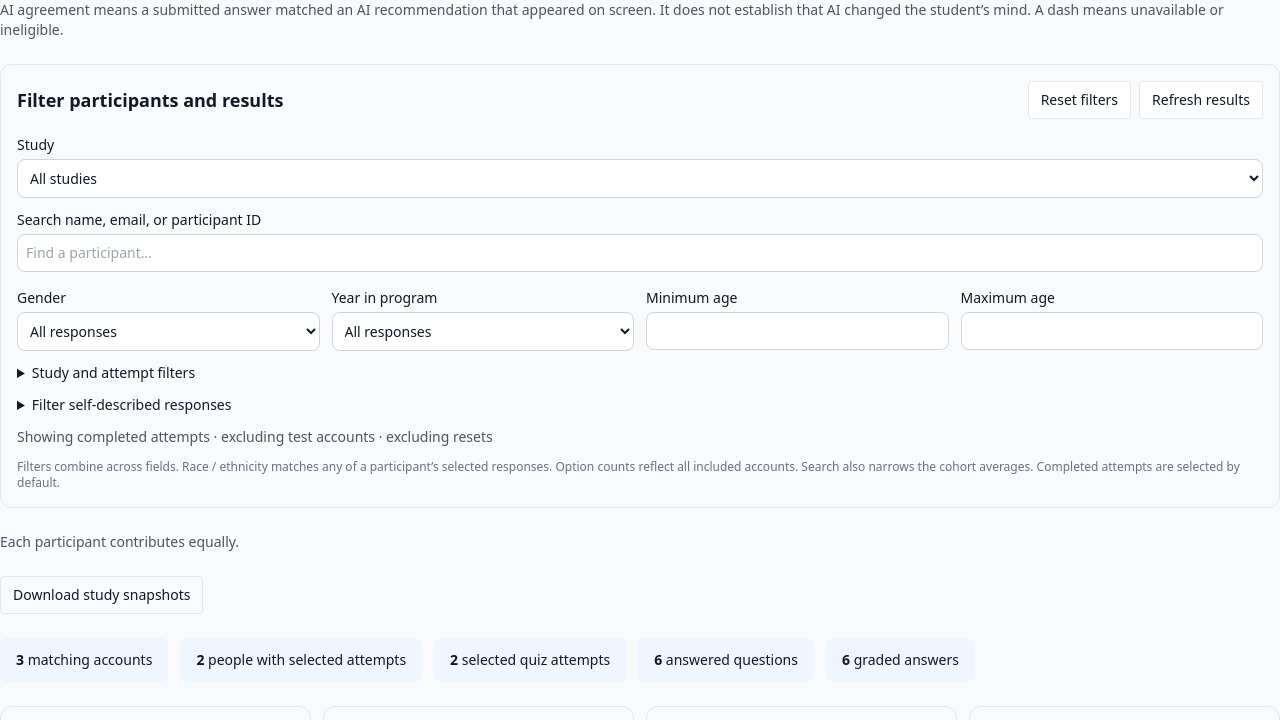
shows a server validation error and allows resetting filters
This screenshot has width=1280, height=720.
Type "90" into the number field labelled "Minimum age" at (797, 331), box [646,312,948,350]
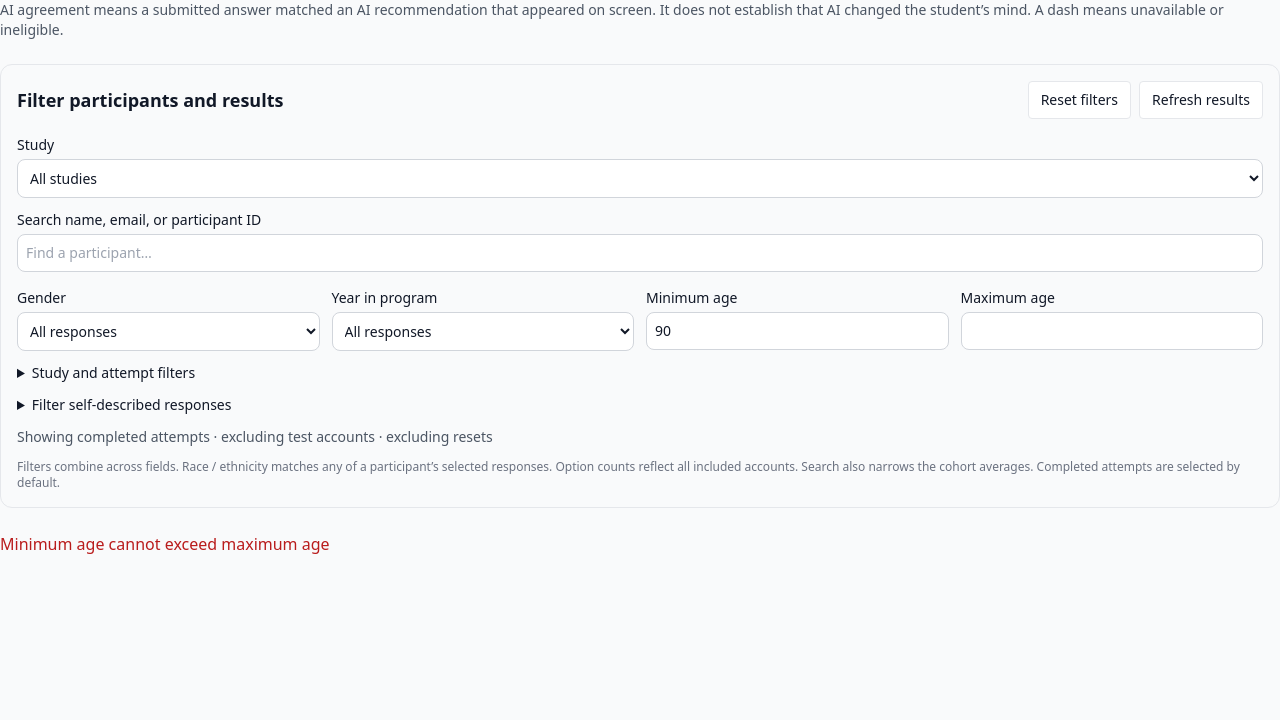
Now the message reads "Minimum age cannot exceed maximum age", box [0,533,330,555]
Click the button "Reset filters" at (1079, 100), box [1028,81,1131,119]
(page scrolled)
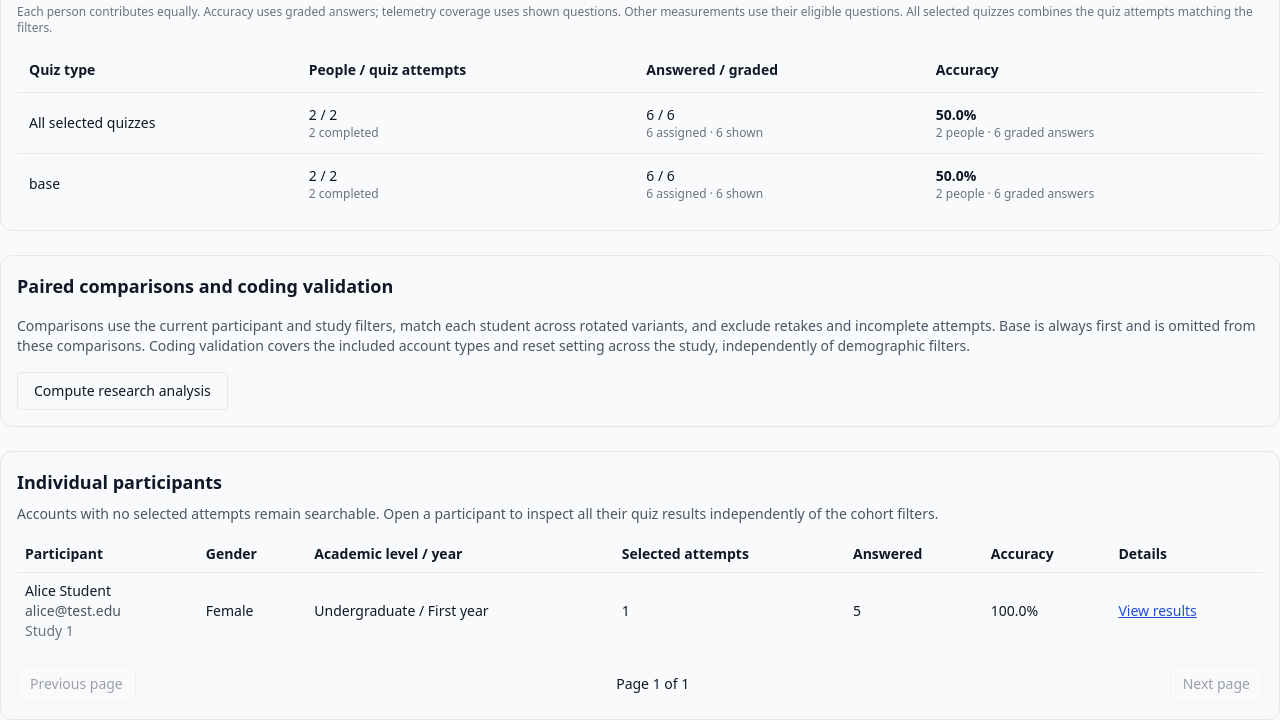
Now the text "Alice Student" is shown, box [25,581,111,600]
